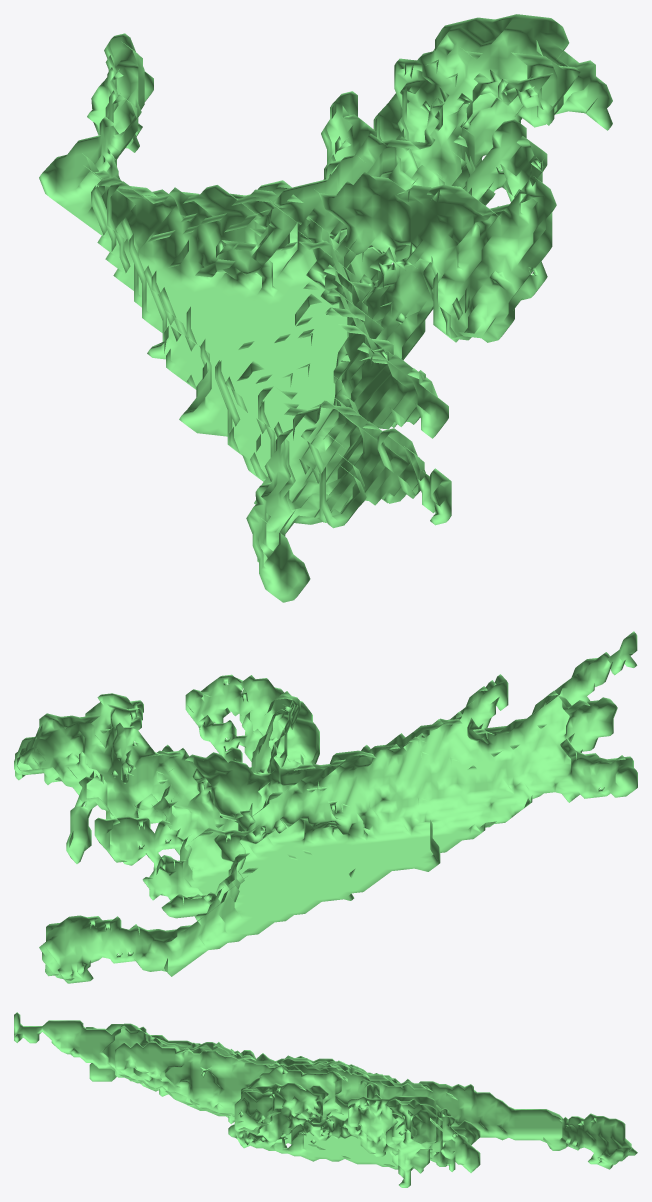
The model's file is osteocyte_10.glb.
3 views of the same model, one above another, from view 1: azimuth 30°, elevation 25°; view 2: azimuth 150°, elevation 25°; view 3: azimuth 270°, elevation 25° (orthographic). The views are drawn at different scales.
Parts seen in each view (by area): view 1: osteocyte_10; view 2: osteocyte_10; view 3: osteocyte_10.
Part boxes in pixels (box(x1,y1,x2,y2)): osteocyte_10: box(39, 14, 612, 602); osteocyte_10: box(14, 631, 637, 983); osteocyte_10: box(14, 1012, 637, 1187).
Size of the model in its own units: 26.38 by 8.05 by 44.26.
